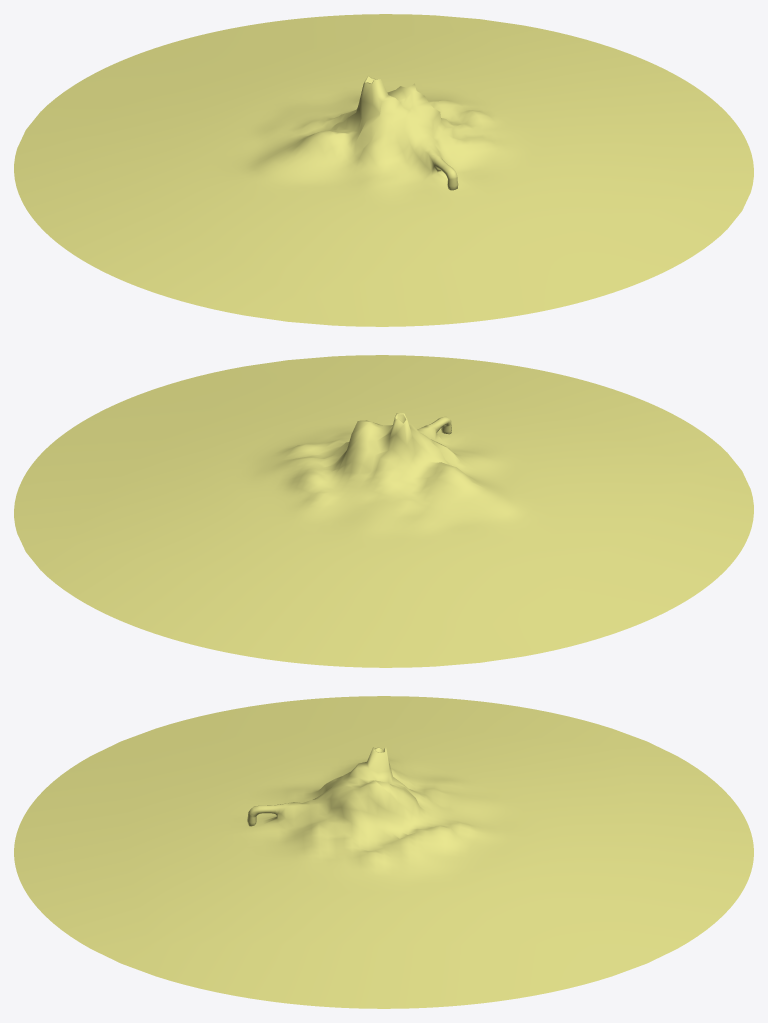
File: isla.fbx
3 renders of one model, top to bottom at view 1: azimuth 30°, elevation 25°; view 2: azimuth 150°, elevation 25°; view 3: azimuth 270°, elevation 25°, orthographic.
Visible parts, largest first — view 1: isla; view 2: isla; view 3: isla.
Boxes of the visible parts, x1,y1,x2,y2 form: isla: (14,14,753,326); isla: (14,355,753,667); isla: (14,696,753,1008).
Size of the model in its own units: 29692 by 4348 by 29692.
